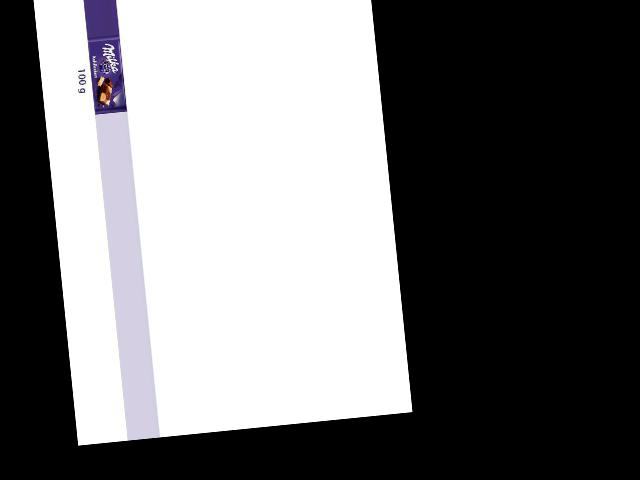chocolate: (85, 34, 127, 115)
